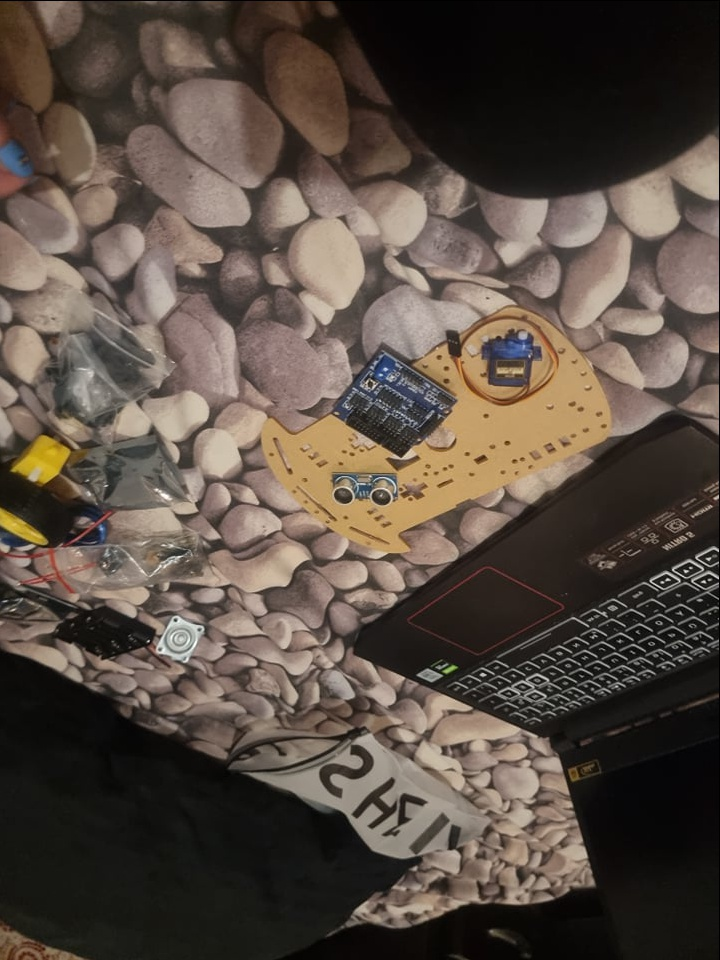5V EXPANSION: (332, 345, 459, 458)
BATTERY BOX: (53, 604, 159, 660)
SENSOR: (330, 471, 399, 507)
